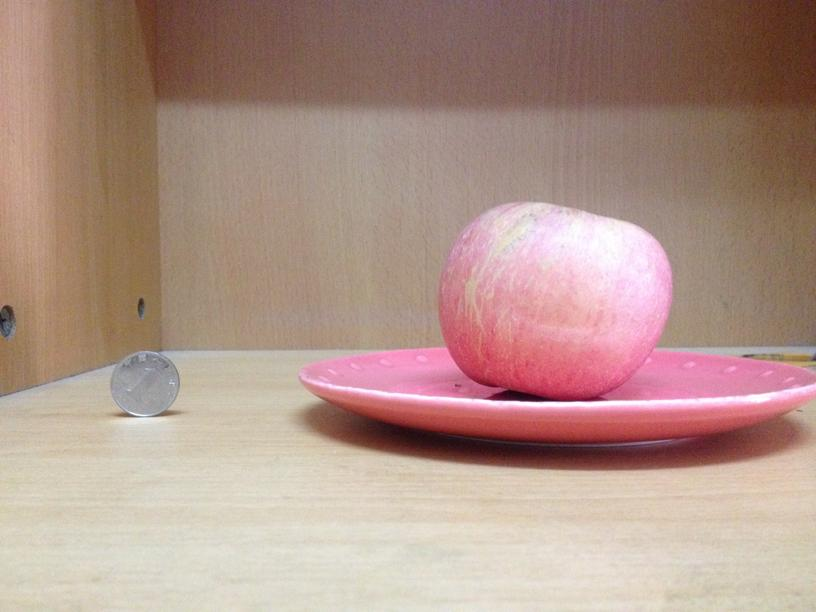apple: (436, 201, 674, 400)
coin: (108, 349, 179, 417)
